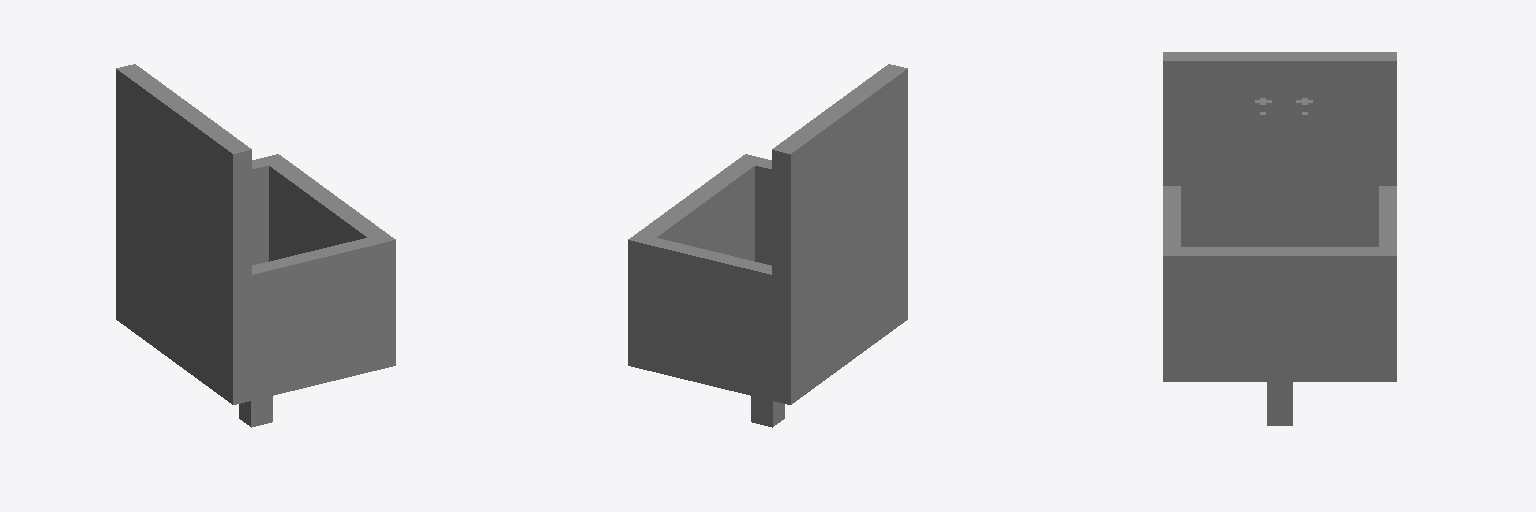
Rendered from wash_stand.obj.
3 views of the same model, side by side, from view 1: azimuth 30°, elevation 25°; view 2: azimuth 150°, elevation 25°; view 3: azimuth 270°, elevation 25° (orthographic).
Parts seen in each view (by area): view 1: ???; view 2: ???; view 3: ???.
Boxes of the visible parts, <box> form: ???: <box>116,64,395,427</box>; ???: <box>628,64,907,427</box>; ???: <box>1163,52,1396,425</box>.
Bounding box in the file's own units: 0.6236 × 1.21 × 0.7796.